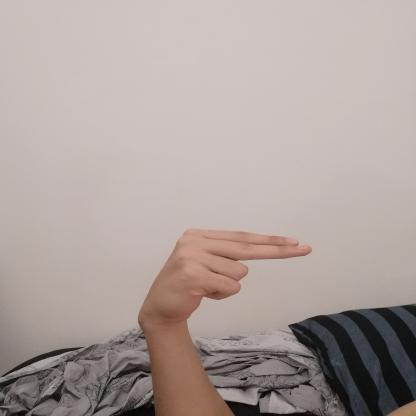AYN: (128, 215, 333, 331)
